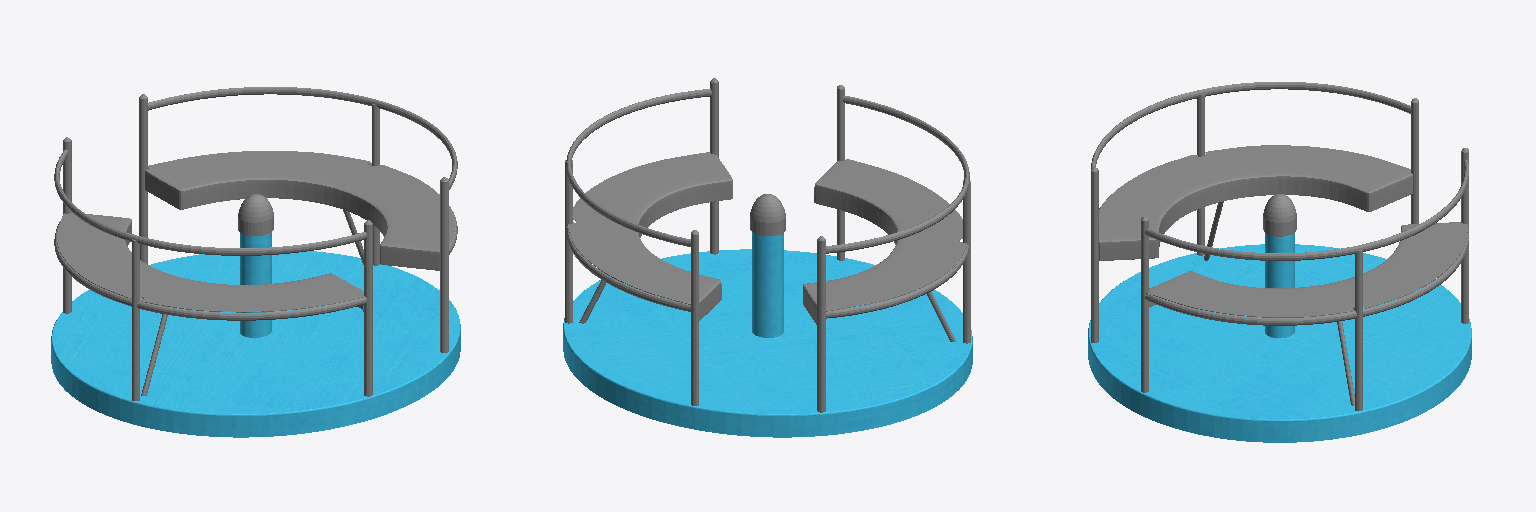
The picture shows the model from 3 angles: view 1: azimuth 30°, elevation 25°; view 2: azimuth 150°, elevation 25°; view 3: azimuth 270°, elevation 25°; orthographic projection.
Parts seen in each view (by area): view 1: Base, Box02, Box003, Cylinder005, Cylinder04, Cap; view 2: Base, Box02, Box003, Cylinder005, Cylinder04, Cap; view 3: Base, Box003, Box02, Cylinder04, Cylinder005, Cap.
Part boxes in pixels (bbox=[...]): Base: bbox=[51, 232, 460, 437]; Box02: bbox=[145, 151, 454, 270]; Box003: bbox=[57, 212, 364, 312]; Cylinder005: bbox=[54, 137, 372, 400]; Cylinder04: bbox=[139, 87, 457, 352]; Cap: bbox=[238, 194, 273, 235]; Base: bbox=[563, 232, 972, 437]; Box02: bbox=[568, 152, 732, 320]; Box003: bbox=[803, 159, 967, 324]; Cylinder005: bbox=[817, 85, 970, 412]; Cylinder04: bbox=[565, 78, 718, 405]; Cap: bbox=[750, 194, 785, 235]; Base: bbox=[1088, 233, 1471, 442]; Box003: bbox=[1099, 145, 1412, 260]; Box02: bbox=[1146, 222, 1467, 317]; Cylinder04: bbox=[1141, 148, 1468, 410]; Cylinder005: bbox=[1091, 82, 1418, 342]; Cap: bbox=[1263, 194, 1296, 236].
Size of the model in its own units: 4.86 by 2.53 by 4.47.
3 materials, 1 textured.